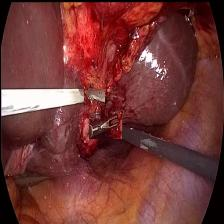Grasper: (88, 112, 121, 138)
Irrigator: (83, 82, 104, 104)
